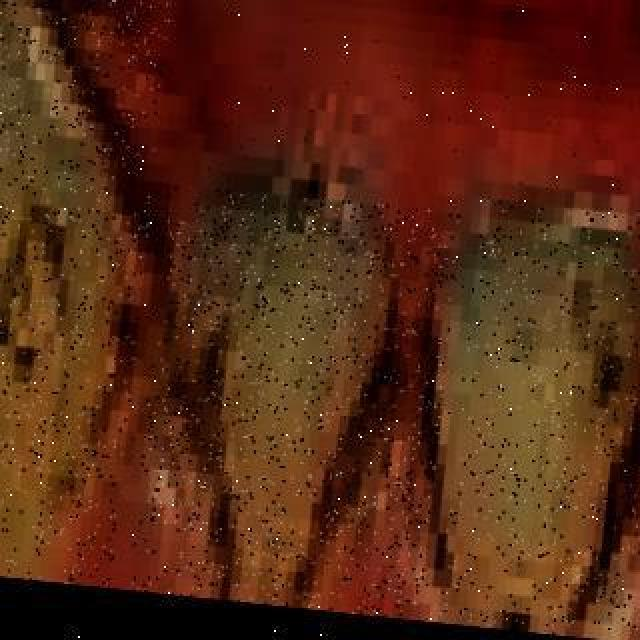spacing: (321, 113, 463, 531), (93, 74, 213, 474), (610, 130, 640, 528)
stains: (125, 182, 461, 620), (0, 0, 170, 586), (436, 196, 640, 640)
